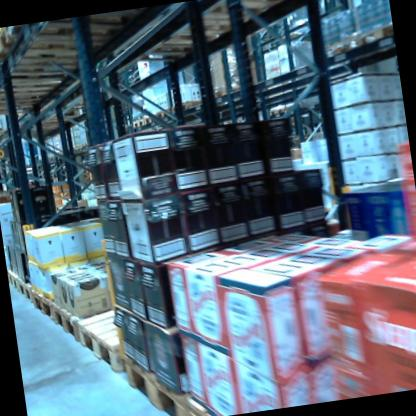pallet: (127, 0, 287, 66), (0, 14, 105, 71), (0, 28, 108, 81), (49, 288, 145, 347), (77, 299, 150, 375), (119, 343, 190, 416), (170, 0, 305, 37), (0, 59, 83, 111), (209, 82, 287, 119), (312, 29, 362, 66), (352, 21, 396, 57), (26, 109, 80, 135), (29, 283, 60, 325), (60, 81, 95, 115), (184, 389, 222, 416), (168, 94, 209, 118), (16, 274, 39, 305), (7, 268, 24, 295), (154, 104, 170, 120), (129, 116, 145, 130), (140, 111, 156, 125), (0, 125, 11, 142), (79, 139, 90, 150)
